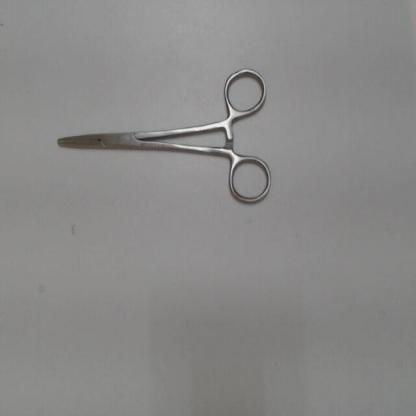Mayo Needle Holder: (40, 62, 277, 217)
